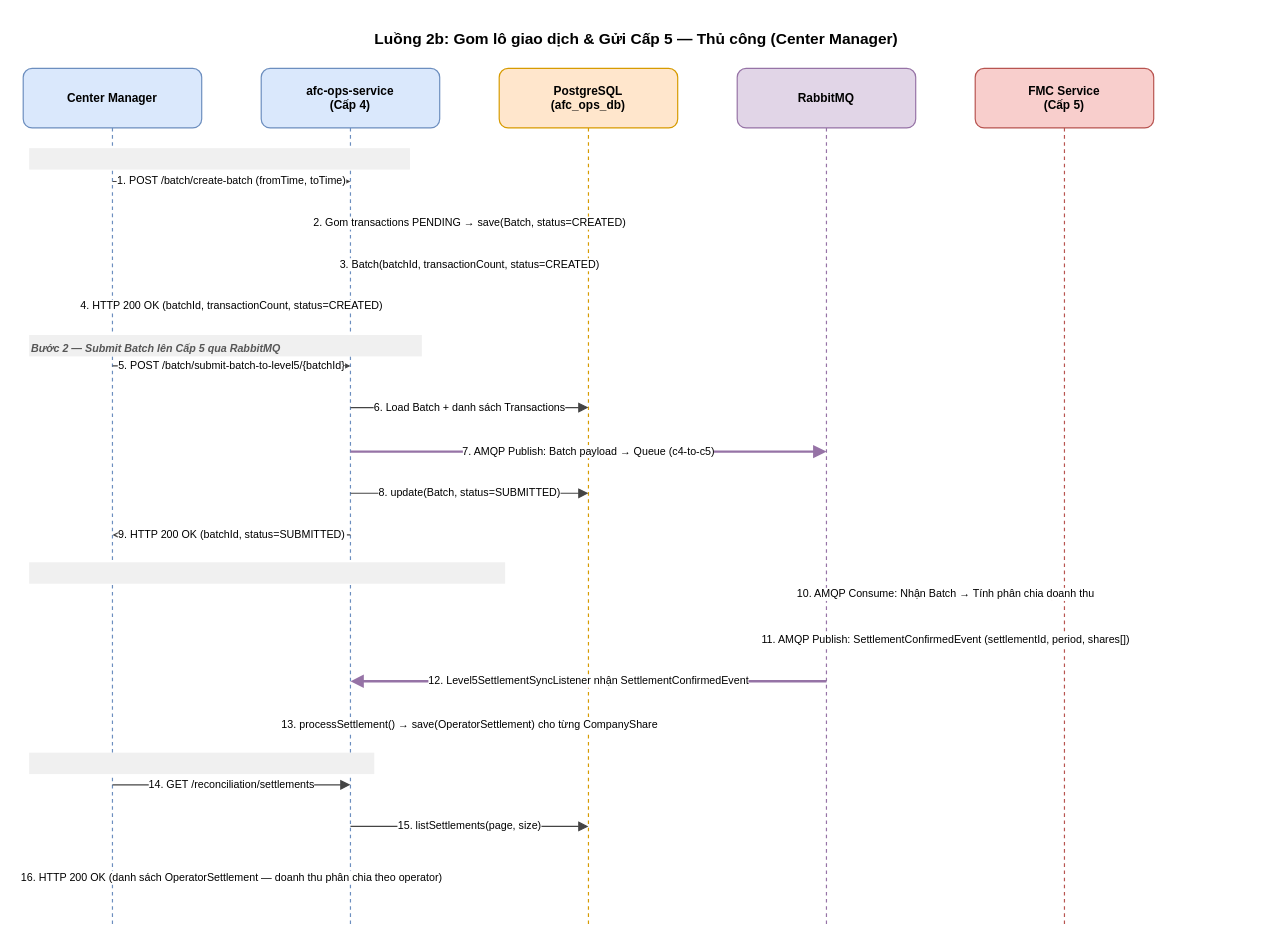
The diagram is 1263 pixels wide and 950 high, and some of its shapes have lost their labels. Here are the shapes that lost their labels. From the top down, the centre of each, then its label:
(219,158): Bước 1 — Center Manager tạo Batch thủ công
(267,572): Bước 3 — Cấp 5 xử lý và trả kết quả quyết toán (async)
(201,763): Bước 4 — Tra cứu kết quả quyết toán
